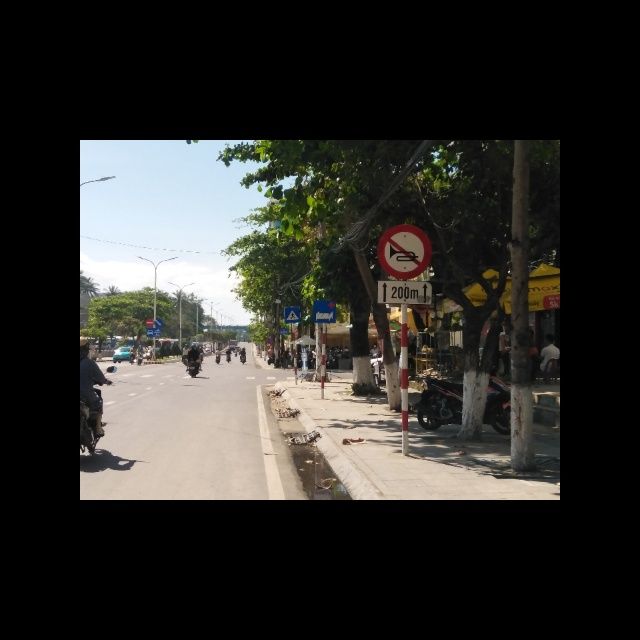Bệnh viện: (312, 299, 336, 323)
Cấm bấm còi: (378, 223, 431, 281)
Đường dành cho người đi bộ: (283, 306, 300, 325)
